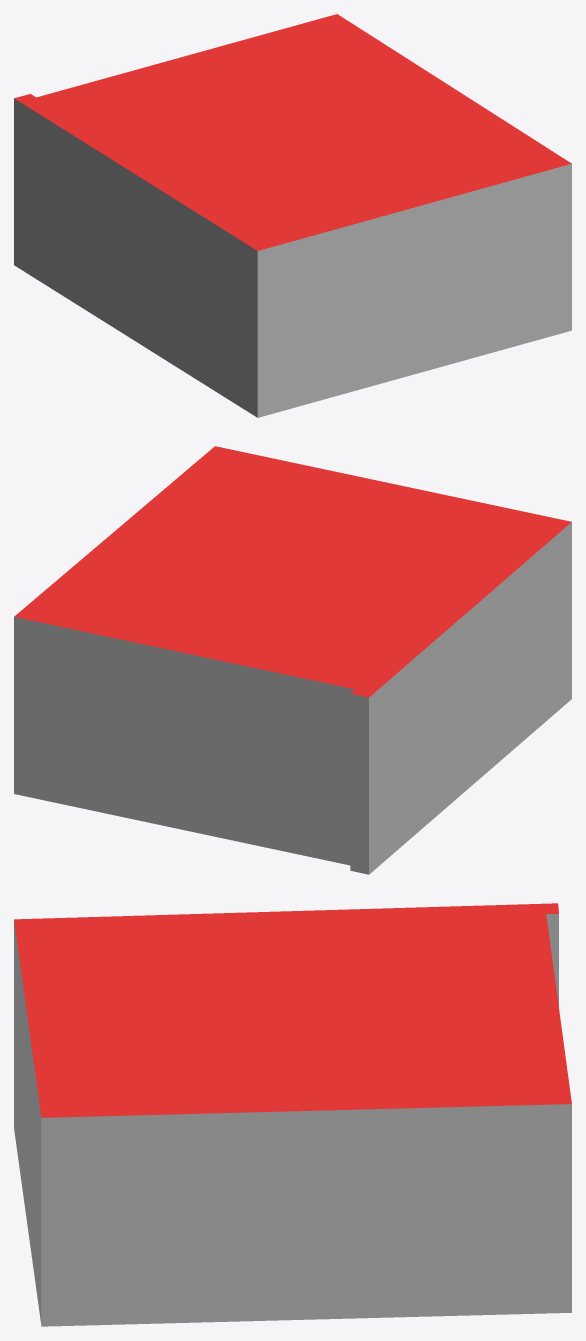
File: DEBY_LOD2_4729322.dae
3 views of the same model, one above another, from view 1: azimuth 30°, elevation 25°; view 2: azimuth 150°, elevation 25°; view 3: azimuth 270°, elevation 25° (orthographic). The views are drawn at different scales.
Bounding box in the file's own units: 5.52 × 6.07 × 2.51.
